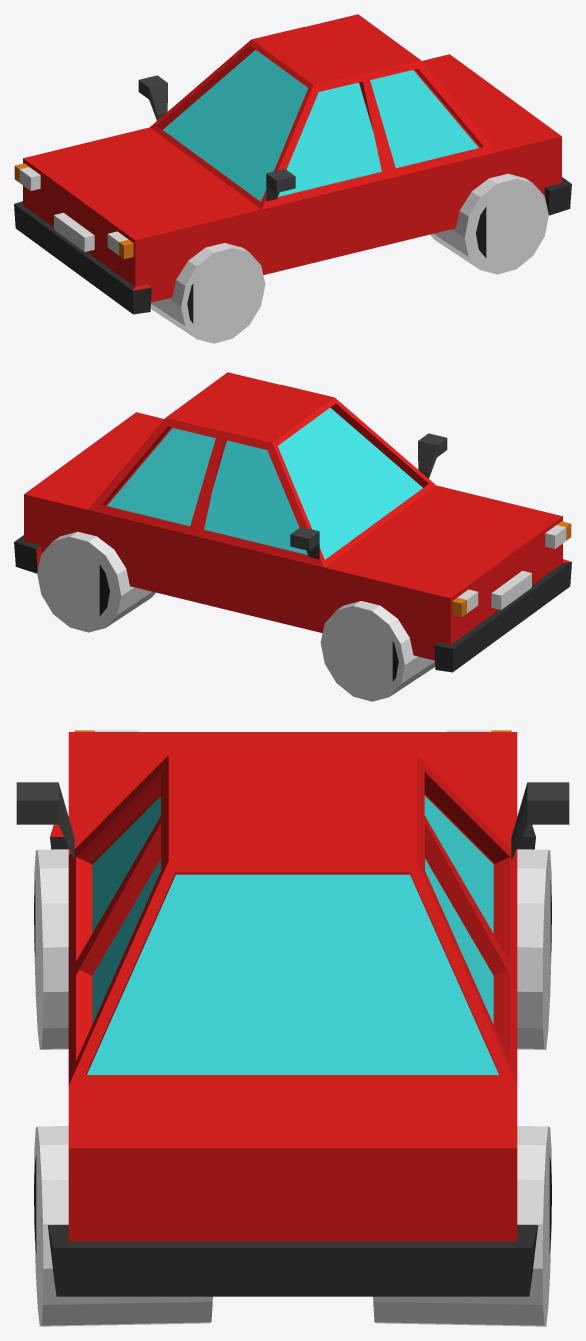
File: RRG_Car_Model.fbx
3 views of the same model, one above another, from view 1: azimuth 30°, elevation 25°; view 2: azimuth 150°, elevation 25°; view 3: azimuth 270°, elevation 25° (orthographic). The views are drawn at different scales.
Visible parts, largest first — view 1: Cube, Cylinder, Cylinder.002, Cube.002, Cube.001, Cube.003; view 2: Cube, Cylinder, Cylinder.002, Cube.002, Cube.001, Cube.003; view 3: Cube, Cylinder.002, Cylinder.004, Cylinder, Cube.002.
Part boxes in pixels (x1,y1,x2,y2): Cube: [14, 14, 571, 314]; Cylinder: [150, 243, 265, 343]; Cylinder.002: [430, 173, 548, 274]; Cube.002: [138, 75, 295, 201]; Cube.001: [14, 163, 133, 259]; Cube.003: [54, 212, 94, 251]; Cube: [14, 372, 571, 672]; Cylinder: [320, 601, 435, 701]; Cylinder.002: [37, 531, 155, 632]; Cube.002: [290, 433, 447, 559]; Cube.001: [452, 521, 571, 617]; Cube.003: [491, 570, 531, 609]; Cube: [47, 732, 538, 1296]; Cylinder.002: [34, 1126, 551, 1326]; Cylinder.004: [41, 849, 544, 1049]; Cylinder: [34, 849, 551, 1049]; Cube.002: [16, 782, 569, 860].
Bounding box in the file's own units: 256 × 112 × 138.
